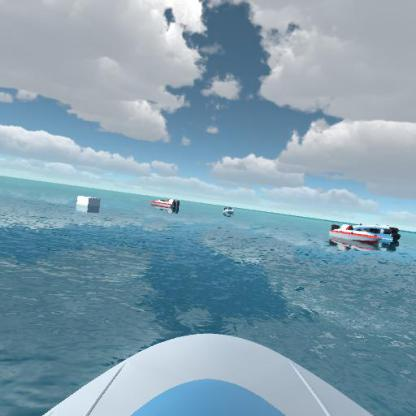usv1: (349, 216, 404, 246), (220, 200, 236, 216)
usv3: (325, 219, 384, 250), (148, 191, 185, 216)
